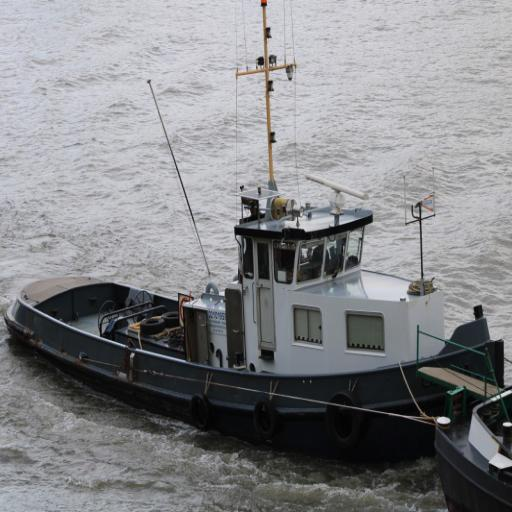tugboat: (3, 2, 507, 475)
